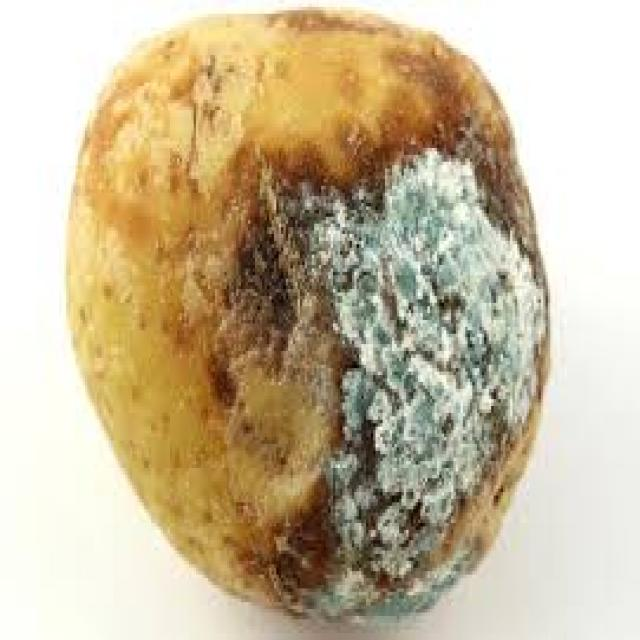organic waste: (68, 10, 548, 612)
